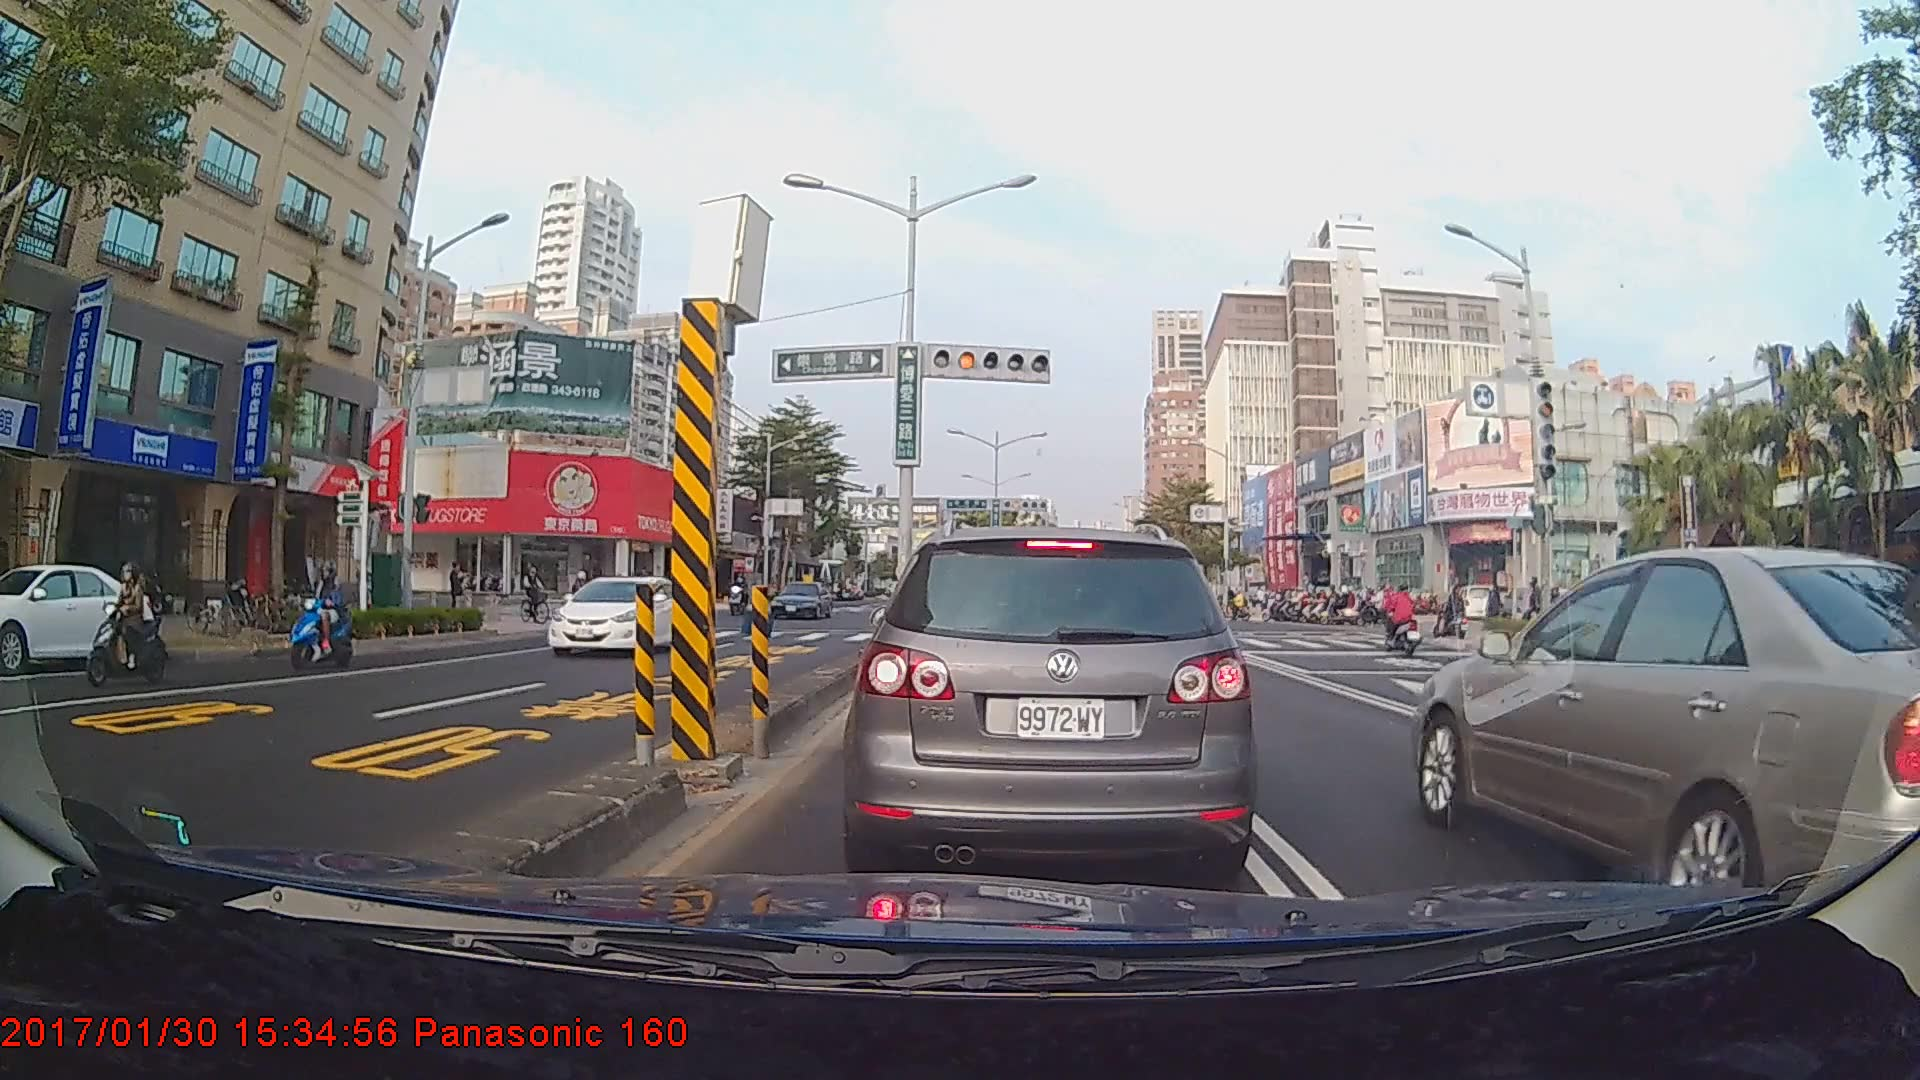pedestrian: (1484, 579, 1508, 637), (448, 558, 468, 621)
rider: (79, 562, 173, 693), (284, 551, 358, 683), (1378, 582, 1431, 670), (518, 559, 553, 629), (1436, 582, 1473, 646)
vehicle: (1413, 544, 1920, 949), (853, 521, 1249, 883), (0, 561, 178, 671), (546, 572, 691, 657), (769, 578, 832, 620)
